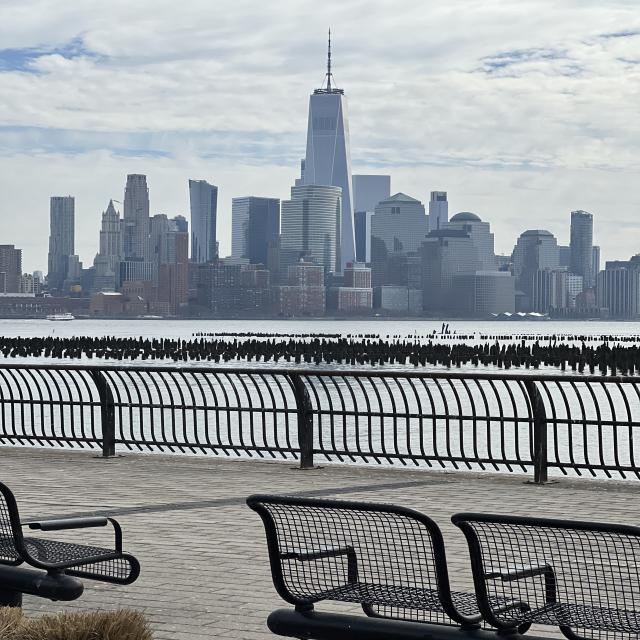WTC: (304, 27, 352, 186)
